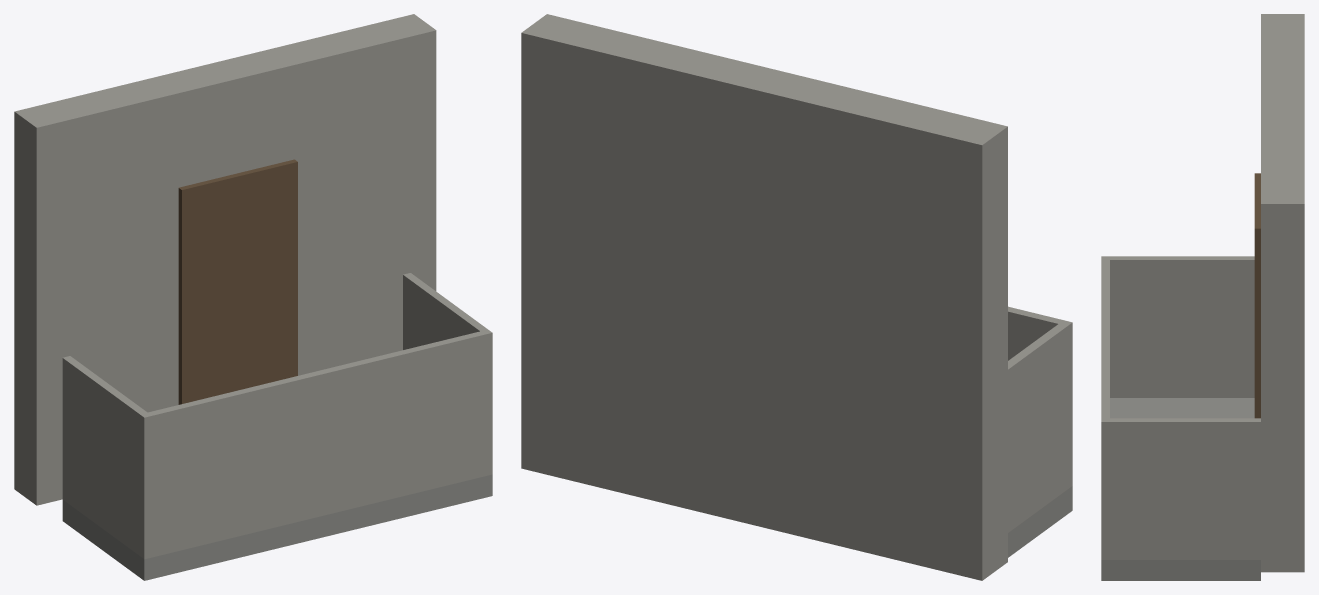
The model's file is balcony_open_panel.glb.
3 renders of one model, left to right at view 1: azimuth 30°, elevation 25°; view 2: azimuth 150°, elevation 25°; view 3: azimuth 270°, elevation 25°, orthographic. The views are drawn at different scales.
Parts seen in each view (by area): view 1: balcony_mesh; view 2: balcony_mesh; view 3: balcony_mesh.
Part boxes in pixels (x1,y1,x2,y2): balcony_mesh: (14, 14, 492, 580); balcony_mesh: (521, 14, 1072, 580); balcony_mesh: (1101, 14, 1304, 580).
Size of what is drawn, in the model's own units: 3.1 by 2.96 by 1.4.
